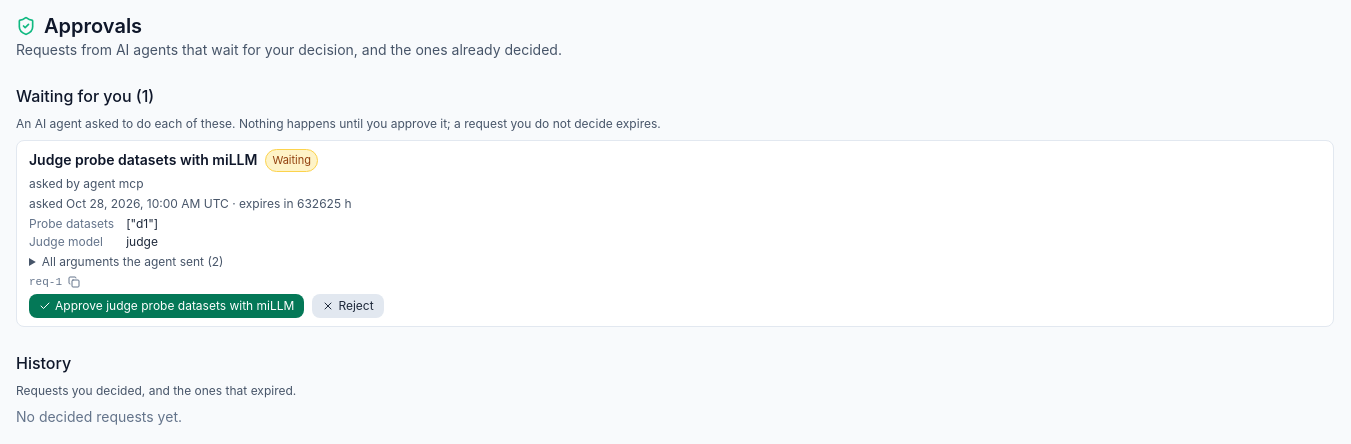
Test: ApprovalsPanel › a decided request appears in History, with who, the reason and the local time
Expected: the text "No decided requests yet." is shown, [16, 408, 182, 425]
Click the button "Reject".
click(348, 306)  # box [312, 294, 384, 318]
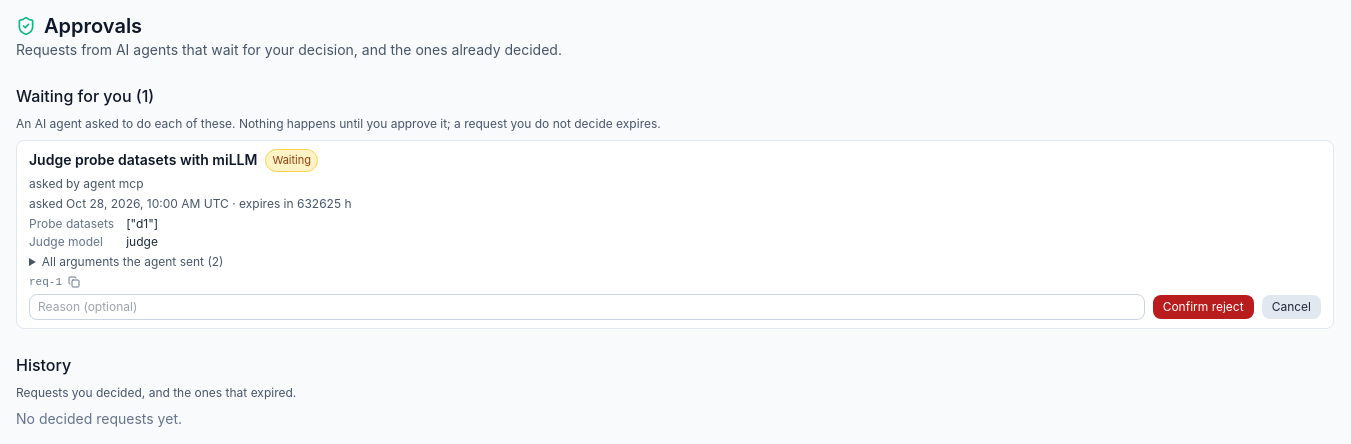
Type "x" into the field with placeholder "Reason (optional)".
click(587, 307); type("x")  # box [29, 294, 1145, 320]
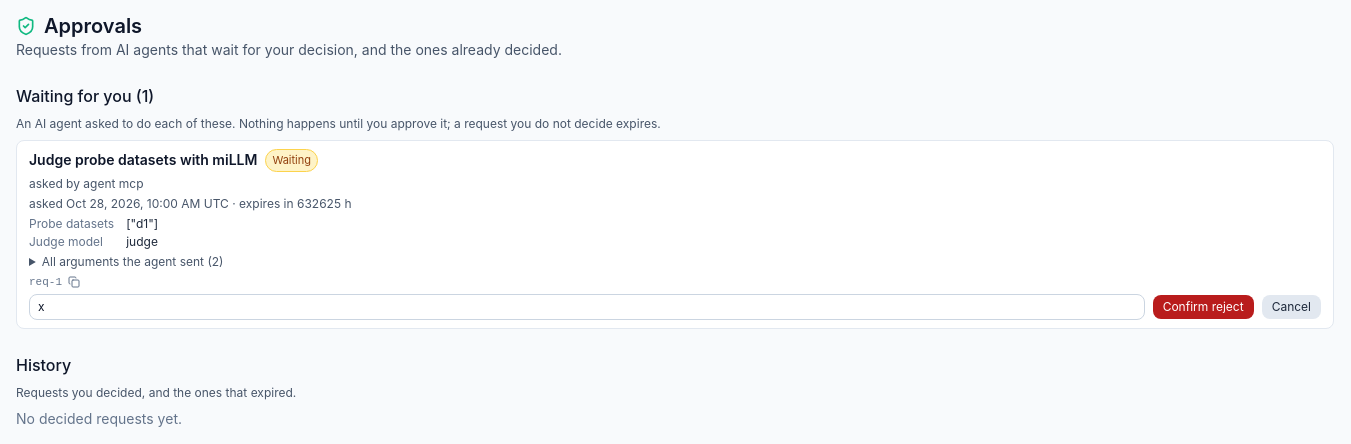
Click the button "Confirm reject".
click(1203, 307)  # box [1153, 295, 1254, 319]
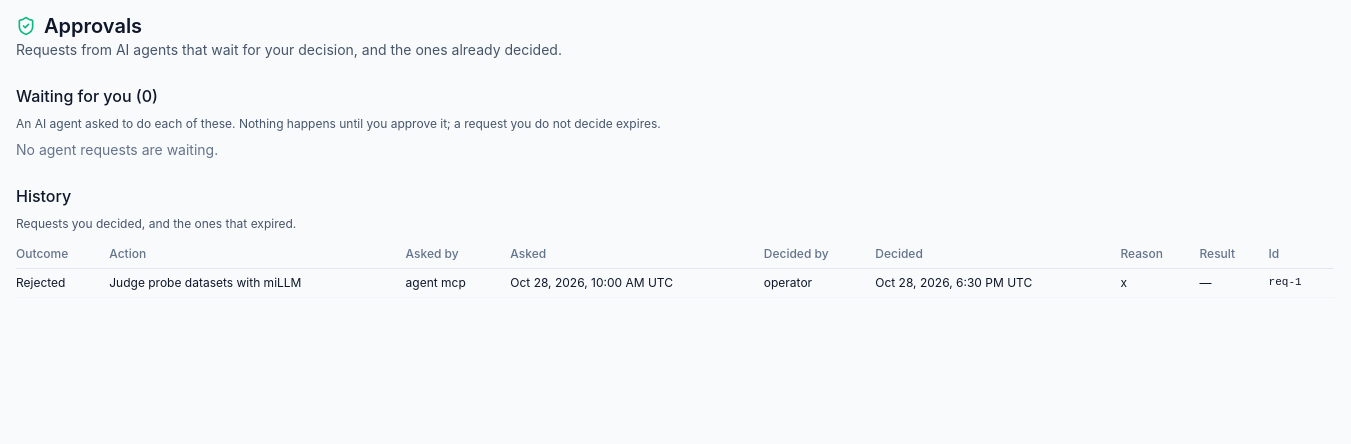
Result: the heading "Waiting for you (0)" is shown at [16, 86, 158, 106]
Result: the cell "Rejected" is shown at [16, 268, 109, 298]
Result: the cell "operator" is shown at [764, 268, 875, 298]
